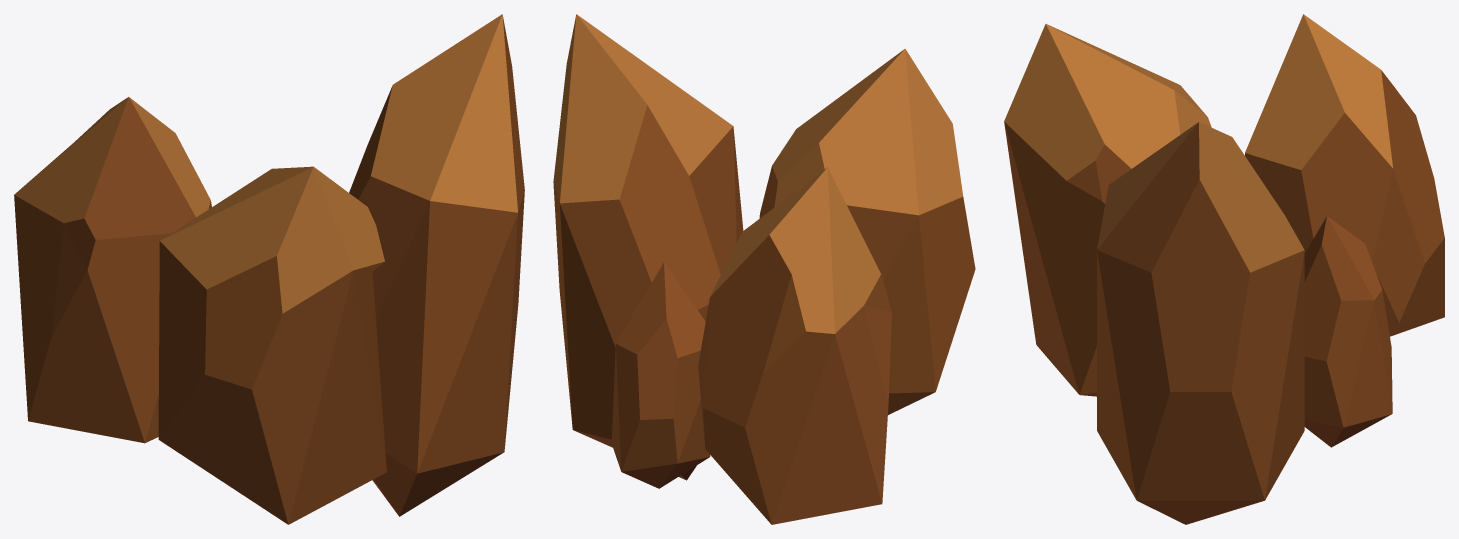
File: CopperRock3.glb
The picture shows the model from 3 angles, left to right: view 1: azimuth 30°, elevation 25°; view 2: azimuth 150°, elevation 25°; view 3: azimuth 270°, elevation 25°; orthographic projection. The views are drawn at different scales.
Visible parts, largest first — view 1: CopperRock3; view 2: CopperRock3; view 3: CopperRock3.
Part boxes in pixels (x1,y1,x2,y2): CopperRock3: (14, 14, 524, 524); CopperRock3: (553, 14, 975, 524); CopperRock3: (1004, 14, 1444, 524).
Bounding box in the file's own units: 0.8627 × 0.95 × 0.8343.
